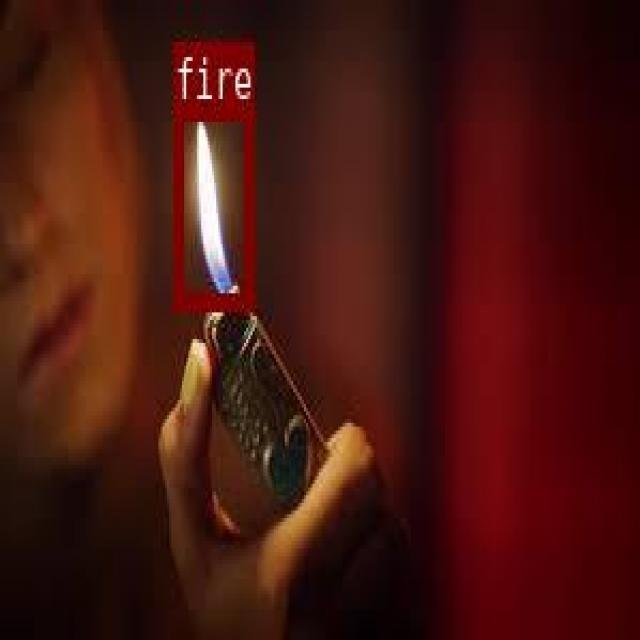fire: (172, 99, 252, 306)
